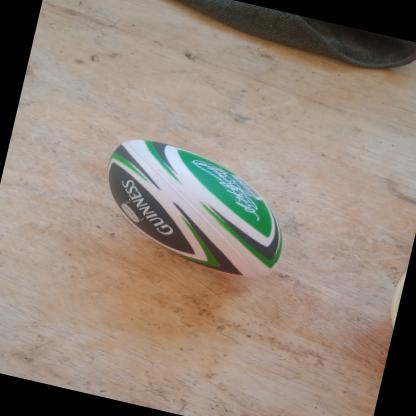Rugby: (83, 127, 312, 292)
